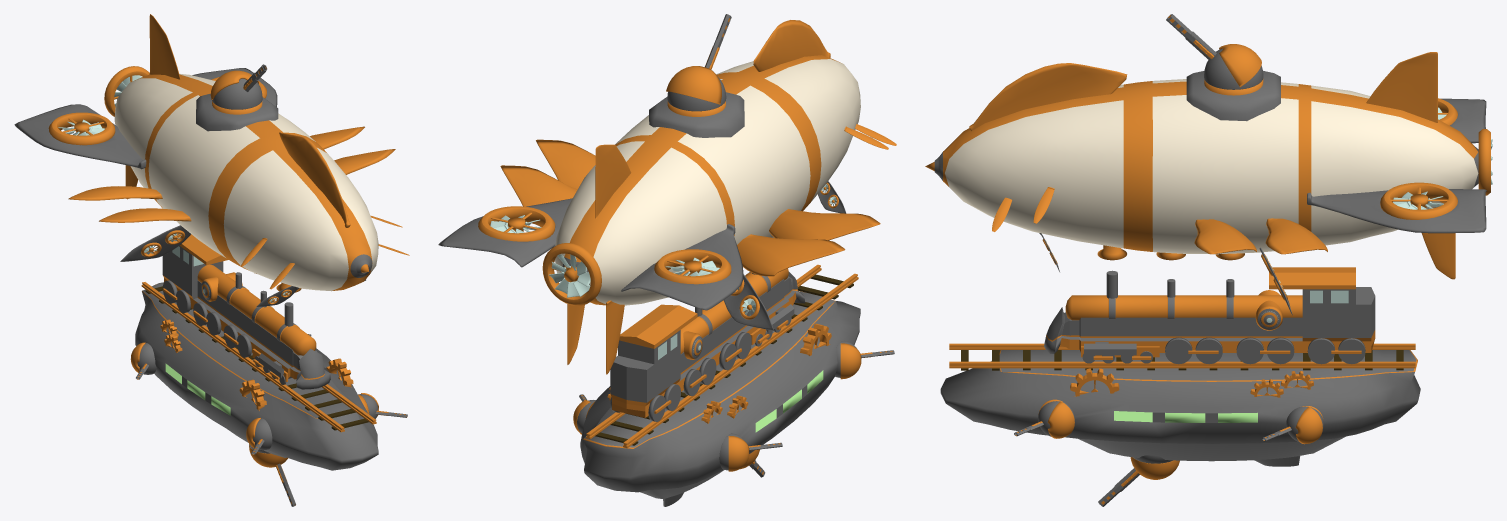
Rendered from airship.002.fbx.
The picture shows the model from 3 angles, left to right: view 1: azimuth 30°, elevation 25°; view 2: azimuth 150°, elevation 25°; view 3: azimuth 270°, elevation 25°; orthographic projection. The views are drawn at different scales.
Visible parts, largest first — view 1: Airship.Ballloon.002, Circle, Cube, wing_003.002, wing_005b.001, Cylinder, Rail, wing_002.001, wing_012b_housing_001.001, Cylinder.011, Cube.006, Gear.000 (+6 smaller); view 2: Airship.Ballloon.002, Circle, wing_003.002, Cube, wing_005b.001, wing_012b_housing_001.001, Rail, Cube.006, Cylinder.011, wing_002.001, wing_012b_housing_001.003, wing_007.002 (+10 smaller); view 3: Airship.Ballloon.002, Circle, Cube, wing_005b.001, Rail, Cylinder, wing_003.002, wing_002.001, Cylinder.011, wing_007.002, Cube.006, wing_012b_housing_001.001 (+11 smaller).
Part boxes in pixels (left/top/right/bottom): Airship.Ballloon.002: left=114, top=73, right=378, bottom=291; Circle: left=135, top=282, right=378, bottom=470; Cube: left=162, top=233, right=330, bottom=389; wing_003.002: left=68, top=126, right=409, bottom=289; wing_005b.001: left=14, top=68, right=277, bottom=169; Cylinder: left=197, top=264, right=316, bottom=355; Rail: left=141, top=282, right=376, bottom=432; wing_002.001: left=279, top=132, right=350, bottom=227; wing_012b_housing_001.001: left=48, top=77, right=266, bottom=145; Cylinder.011: left=163, top=280, right=286, bottom=384; Cube.006: left=196, top=93, right=278, bottom=131; Gear.000: left=160, top=319, right=353, bottom=410; Airship.Ballloon.002: left=555, top=55, right=860, bottom=305; Circle: left=580, top=291, right=860, bottom=506; wing_003.002: left=500, top=124, right=896, bottom=374; Cube: left=610, top=271, right=805, bottom=417; wing_005b.001: left=438, top=198, right=743, bottom=310; wing_012b_housing_001.001: left=478, top=206, right=731, bottom=284; Rail: left=586, top=264, right=858, bottom=448; Cube.006: left=649, top=92, right=744, bottom=137; Cylinder.011: left=610, top=317, right=791, bottom=421; wing_002.001: left=753, top=20, right=830, bottom=71; wing_012b_housing_001.003: left=542, top=243, right=601, bottom=305; wing_007.002: left=595, top=144, right=631, bottom=218; Airship.Ballloon.002: left=925, top=79, right=1478, bottom=254; Circle: left=940, top=350, right=1420, bottom=466; Cube: left=1044, top=267, right=1375, bottom=357; wing_005b.001: left=1307, top=98, right=1486, bottom=233; Rail: left=949, top=343, right=1415, bottom=370; Cylinder: left=1065, top=295, right=1302, bottom=320; wing_003.002: left=992, top=187, right=1455, bottom=279; wing_002.001: left=969, top=63, right=1127, bottom=130; Cylinder.011: left=1082, top=337, right=1365, bottom=364; wing_007.002: left=1366, top=52, right=1437, bottom=122; Cube.006: left=1186, top=71, right=1280, bottom=121; wing_012b_housing_001.001: left=1380, top=98, right=1457, bottom=219.
Bounding box in the file's own units: 6046 × 8193 × 8554.
